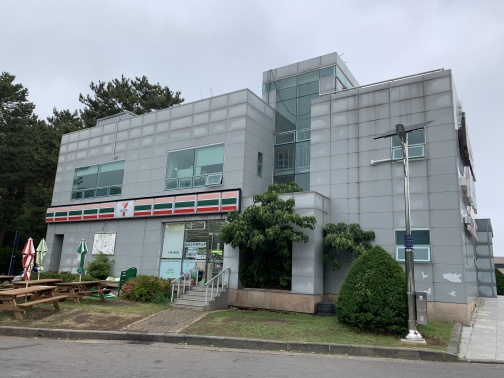Global House: (46, 59, 486, 322)
